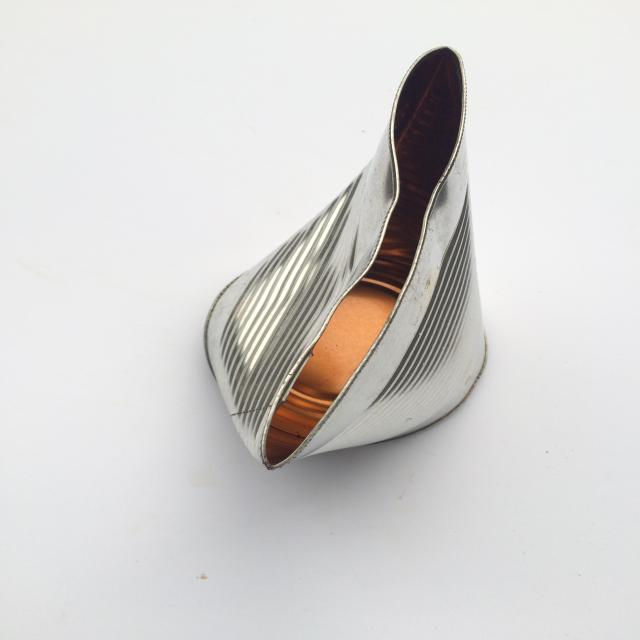metal: (202, 45, 488, 470)
